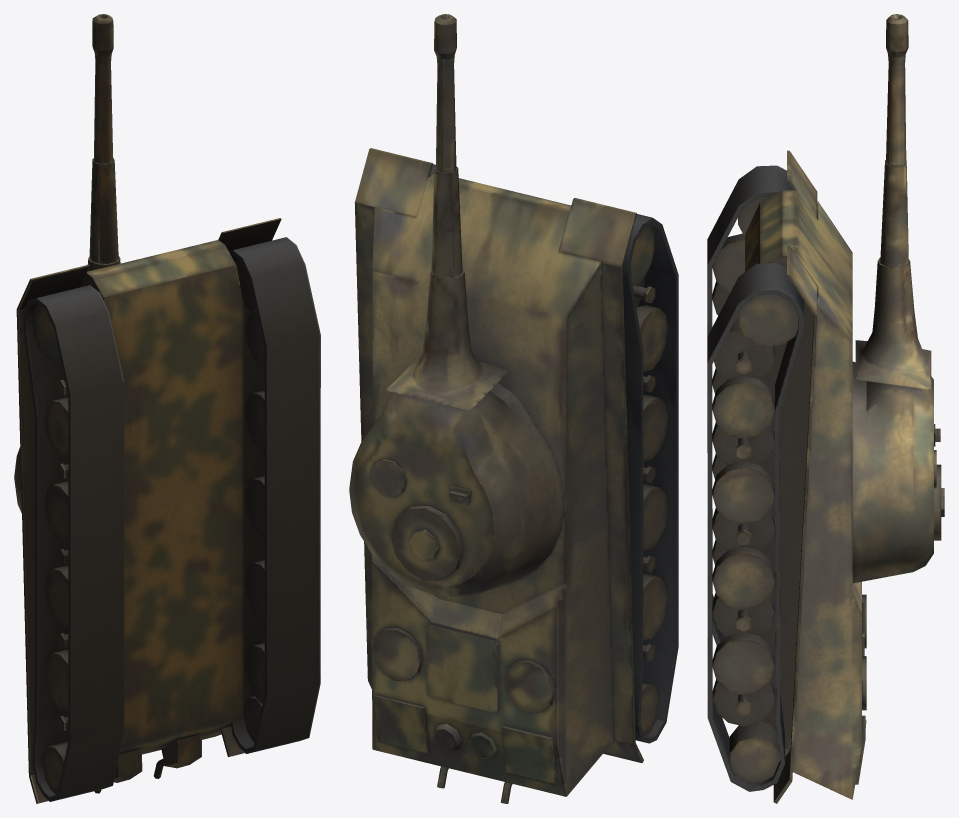
File: Lowe.fbx
The picture shows the model from 3 angles, left to right: view 1: azimuth 30°, elevation 25°; view 2: azimuth 150°, elevation 25°; view 3: azimuth 270°, elevation 25°; orthographic projection. The views are drawn at different scales.
Parts seen in each view (by area): view 1: Lowe Body, Lowe Turret; view 2: Lowe Body, Lowe Turret; view 3: Lowe Body, Lowe Turret.
Part boxes in pixels (x1,y1,x2,y2): Lowe Body: (16,218,320,803); Lowe Turret: (14,14,120,513); Lowe Body: (354,148,678,803); Lowe Turret: (349,14,564,597); Lowe Body: (707,150,866,803); Lowe Turret: (852,14,944,583).
Bounding box in the file's own units: 142 × 406 × 114.
